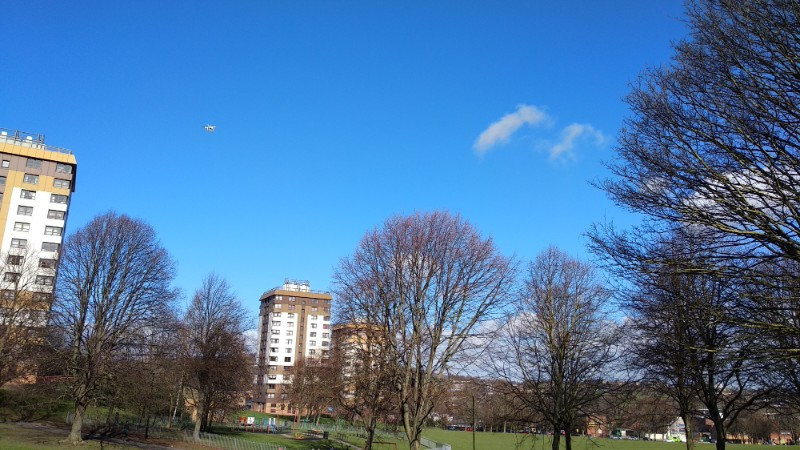drone: (203, 123, 217, 133)
